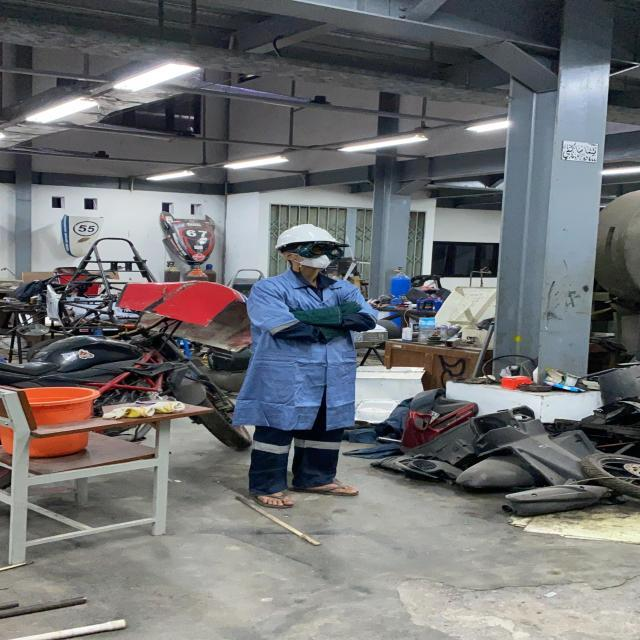glasses: (284, 238, 352, 260)
